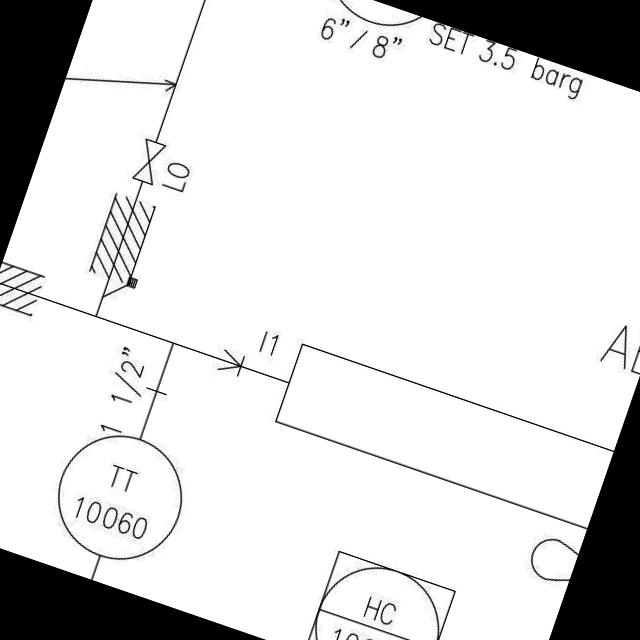GV: (126, 133, 172, 191)
